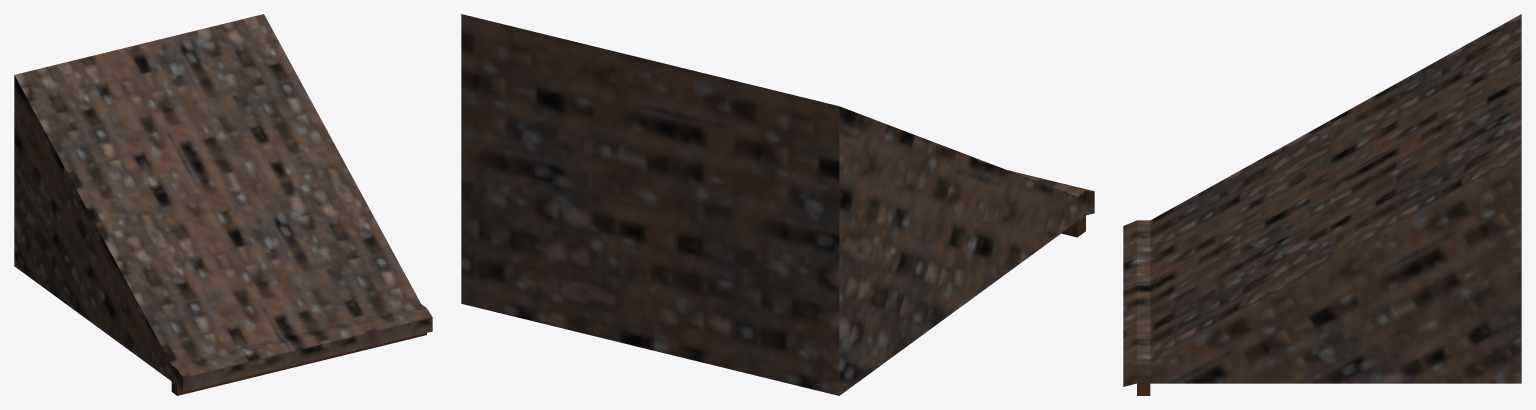
Rendered from Straight Roof Front.fbx.
3 views of the same model, side by side, from view 1: azimuth 30°, elevation 25°; view 2: azimuth 150°, elevation 25°; view 3: azimuth 270°, elevation 25° (orthographic). The views are drawn at different scales.
Parts seen in each view (by area): view 1: Telhado Reto Frente; view 2: Telhado Reto Frente; view 3: Telhado Reto Frente.
Boxes of the visible parts, box(x1,y1,x2,y2) form: Telhado Reto Frente: box(14, 14, 432, 395); Telhado Reto Frente: box(461, 14, 1094, 395); Telhado Reto Frente: box(1123, 14, 1521, 395).
Size of the model in its own units: 261 by 201 by 305.
